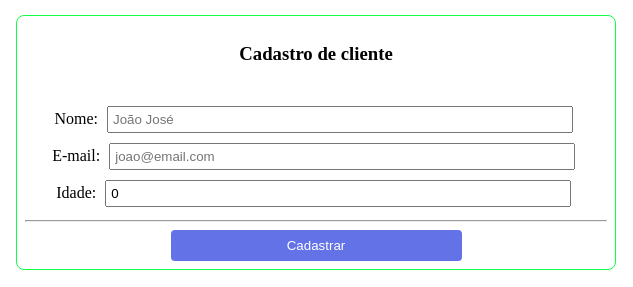
Test: Formulario.vue › should display an error message when the user tries to submit the form without any data
Click the button "Cadastrar": (316, 246) [170,230,462,261]
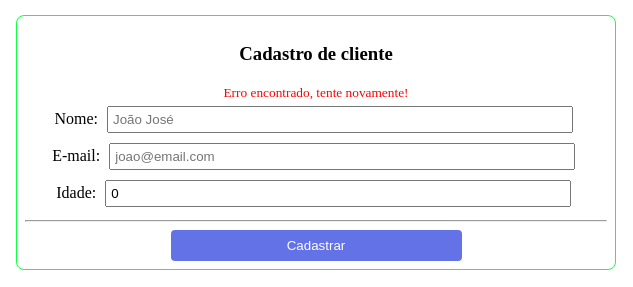
Expected: the text "Erro encontrado, tente novamente!" is shown, [224,85,408,100]
